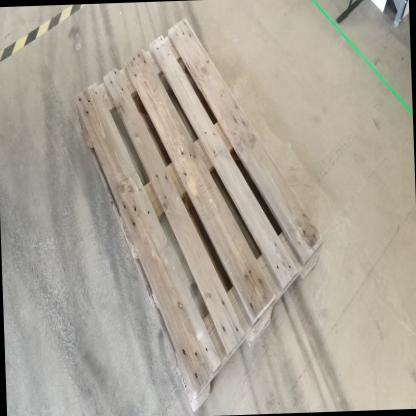BoxFace: (66, 11, 327, 416)
